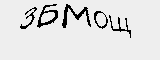Б: (38, 1, 58, 27)
З: (20, 5, 36, 29)
М: (60, 4, 92, 27)
О: (94, 9, 107, 29)
Щ: (107, 15, 132, 35)
